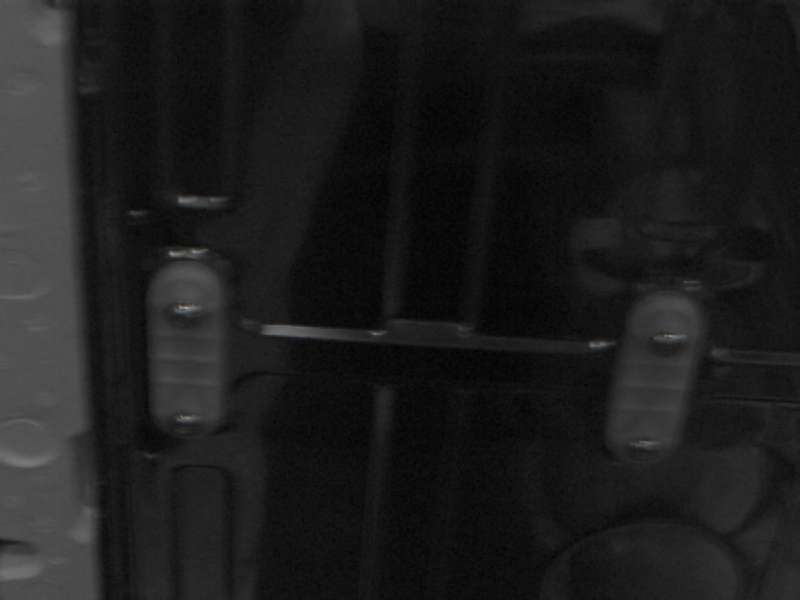screw: (166, 302, 206, 328), (626, 438, 664, 462), (170, 412, 206, 437), (650, 332, 689, 355)
